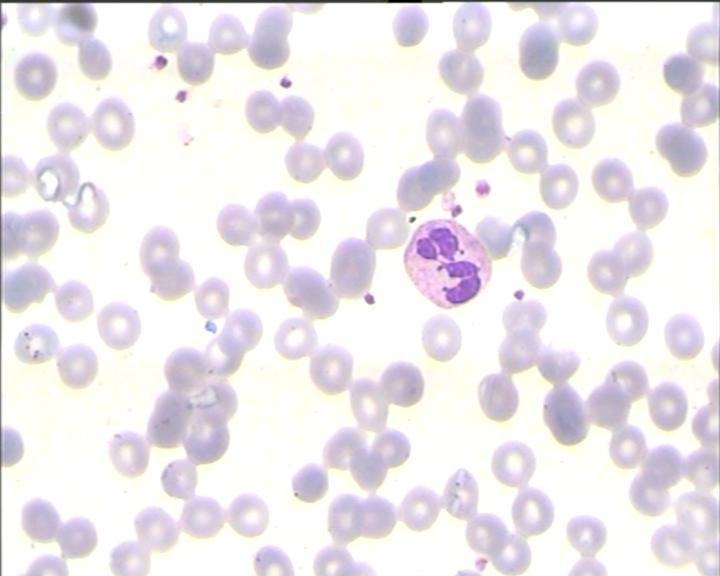neut: (401, 218, 491, 309)
